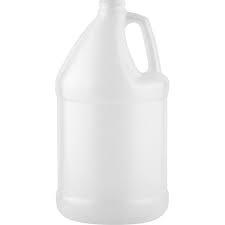Plastic canister: (51, 1, 173, 225)
